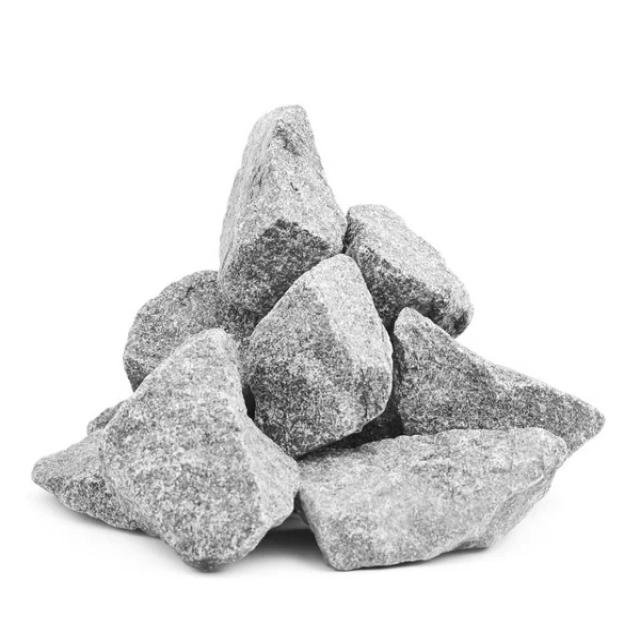Stone: (100, 328, 300, 572), (298, 428, 570, 571), (393, 308, 606, 453), (248, 254, 394, 458), (220, 106, 346, 314), (346, 206, 474, 337), (123, 271, 261, 390)
